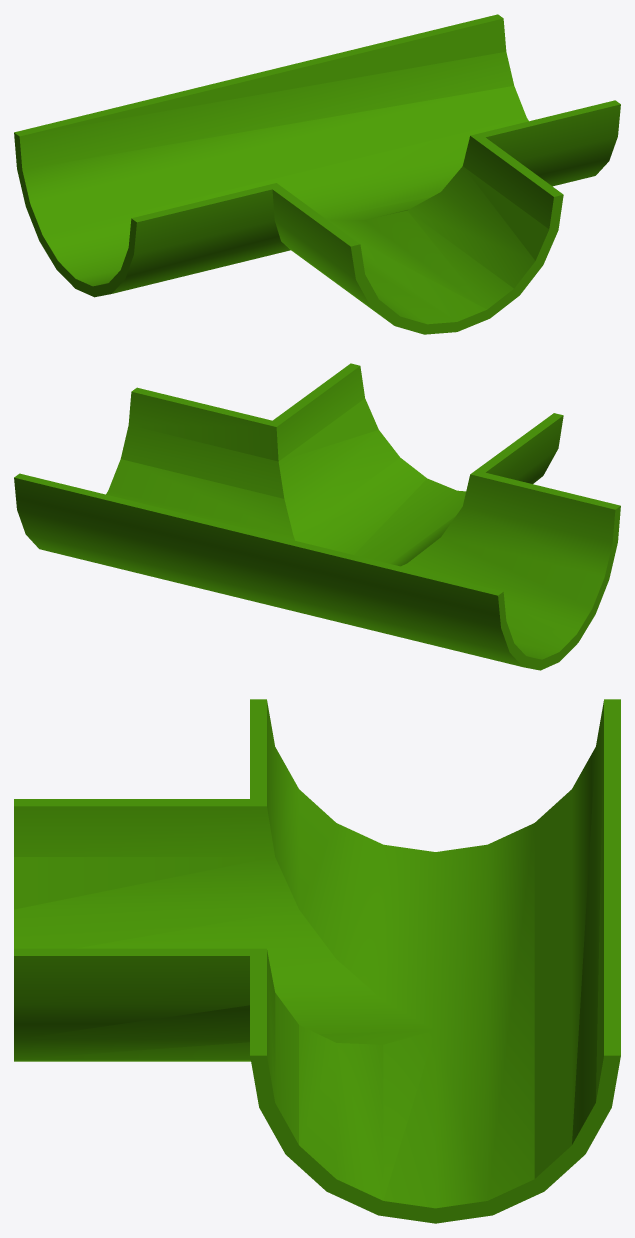
File: Pipe3Way.fbx
3 renders of one model, top to bottom at view 1: azimuth 30°, elevation 25°; view 2: azimuth 150°, elevation 25°; view 3: azimuth 270°, elevation 25°, orthographic. The views are drawn at different scales.
Visible parts, largest first — view 1: Three; view 2: Three; view 3: Three.
Part boxes in pixels (x1=…): Three: x1=14, y1=14, x2=620, y2=334; Three: x1=14, y1=363, x2=620, y2=670; Three: x1=14, y1=699, x2=620, y2=1223.
Size of the model in its own units: 5 by 1.1 by 3.6.
